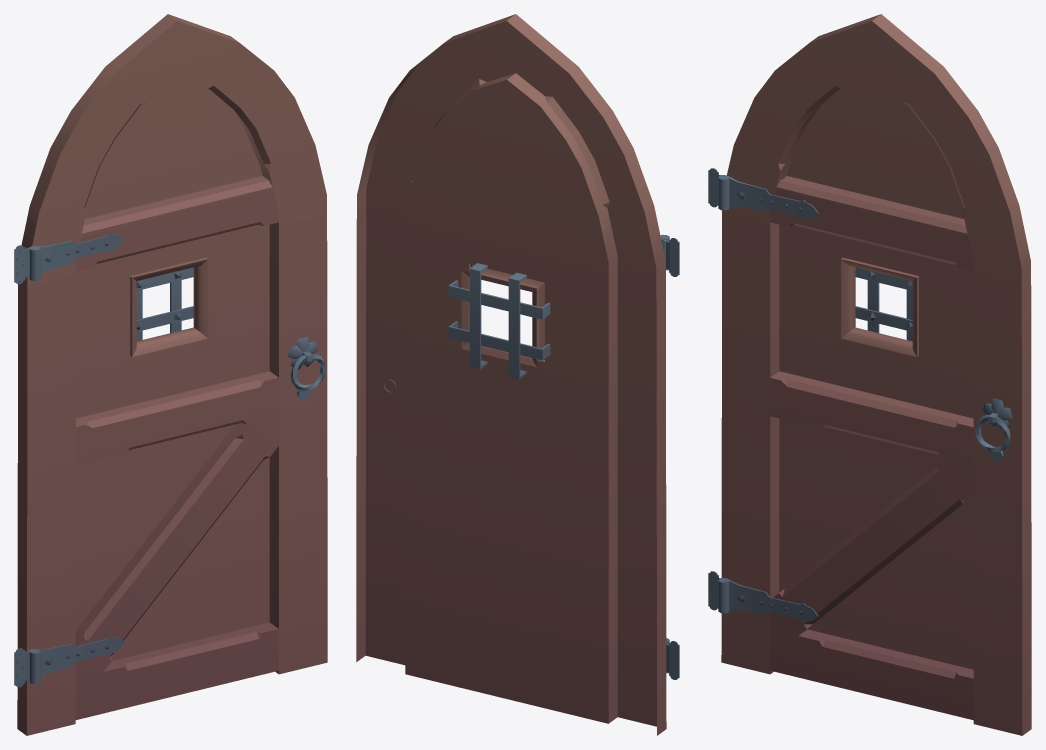
File: Door.fbx
3 views of the same model, side by side, from view 1: azimuth 30°, elevation 25°; view 2: azimuth 150°, elevation 25°; view 3: azimuth 330°, elevation 25° (orthographic).
Parts seen in each view (by area): view 1: Door_Adjusted; view 2: Door_Adjusted; view 3: Door_Adjusted.
Boxes of the visible parts, x1,y1,x2,y2 form: Door_Adjusted: [14, 14, 327, 735]; Door_Adjusted: [356, 14, 679, 735]; Door_Adjusted: [708, 14, 1031, 735].
Bounding box in the file's own units: 116 × 239 × 18.27.
